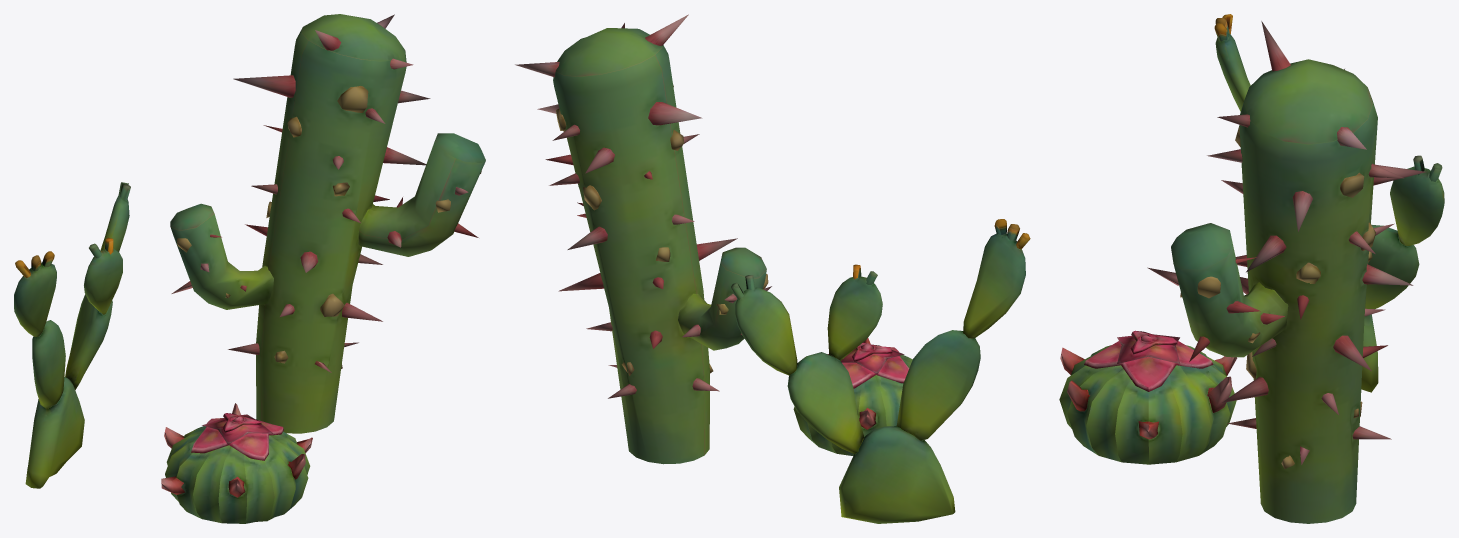
File: PRP_Cactus_lod.glb
3 renders of one model, left to right at view 1: azimuth 30°, elevation 25°; view 2: azimuth 150°, elevation 25°; view 3: azimuth 270°, elevation 25°, orthographic. The views are drawn at different scales.
Parts seen in each view (by area): view 1: defaultMaterial (×3); view 2: defaultMaterial (×3); view 3: defaultMaterial (×3).
Boxes of the visible parts, box(x1,y1,x2,y2) form: defaultMaterial (×3): box(14, 14, 485, 523); defaultMaterial (×3): box(515, 14, 1030, 523); defaultMaterial (×3): box(1059, 14, 1444, 523).
Size of the model in its own units: 1.99 by 1.7 by 1.21.
Materials: 3 (3 with a texture image).
